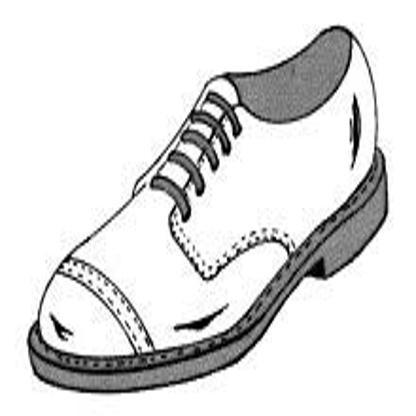not trash: (27, 22, 390, 392)
